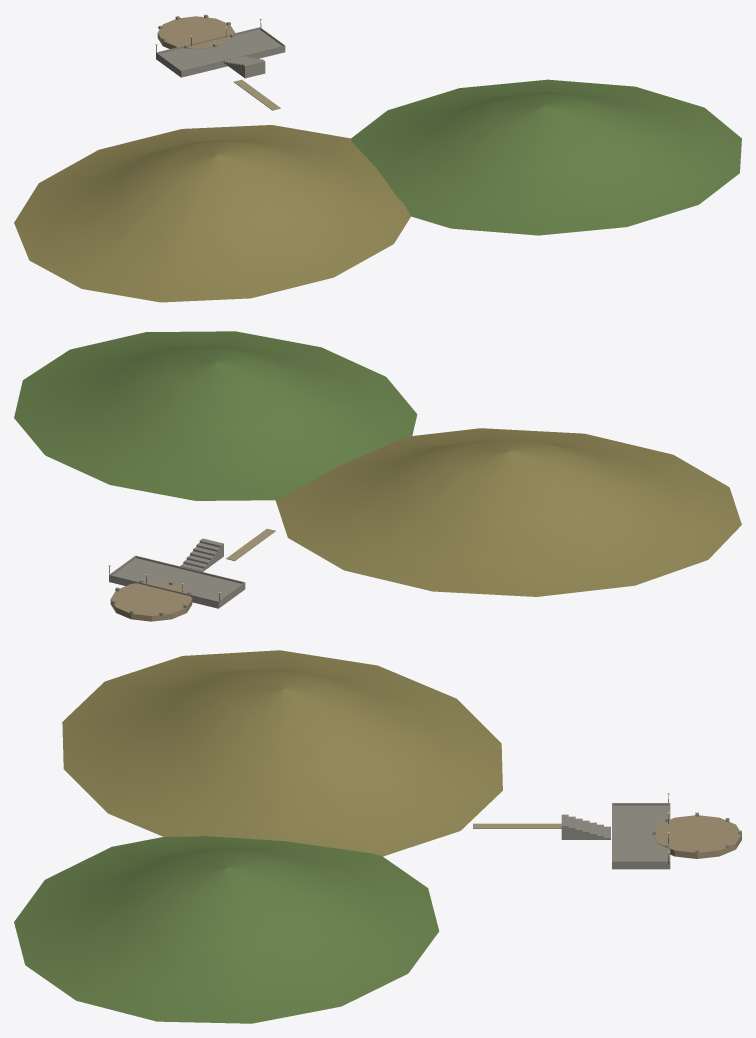
Rendered from mobile.glb.
3 views of the same model, one above another, from view 1: azimuth 30°, elevation 25°; view 2: azimuth 150°, elevation 25°; view 3: azimuth 270°, elevation 25° (orthographic). The views are drawn at different scales.
Visible parts, largest first — view 1: lm.twin-peaks; view 2: lm.twin-peaks; view 3: lm.twin-peaks.
Boxes of the visible parts, x1,y1,x2,y2 form: lm.twin-peaks: (14, 14, 741, 302); lm.twin-peaks: (14, 331, 741, 621); lm.twin-peaks: (14, 650, 741, 1023).
Size of the model in its own units: 394 by 33 by 325.
